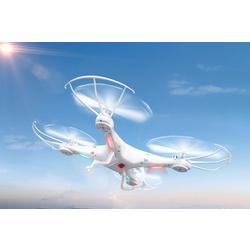drone: (30, 74, 232, 190)
